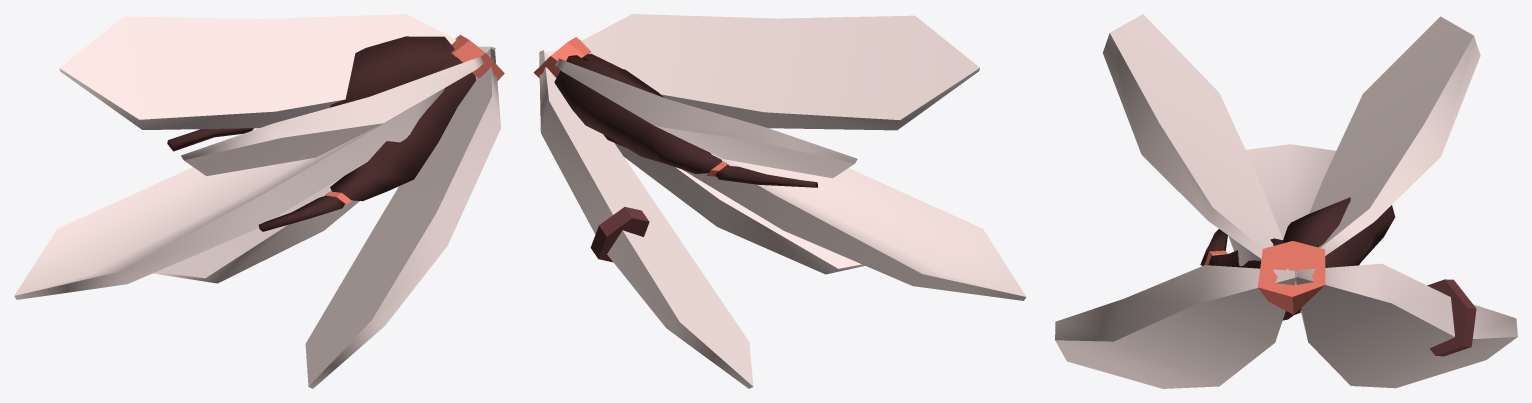
Rendered from QueenPonytailFemale.glb.
3 renders of one model, left to right at view 1: azimuth 30°, elevation 25°; view 2: azimuth 150°, elevation 25°; view 3: azimuth 270°, elevation 25°, orthographic. The views are drawn at different scales.
Parts seen in each view (by area): view 1: QueenSkinPonyTail; view 2: QueenSkinPonyTail; view 3: QueenSkinPonyTail.
Boxes of the visible parts, x1,y1,x2,y2 form: QueenSkinPonyTail: (14, 14, 504, 388); QueenSkinPonyTail: (533, 14, 1026, 388); QueenSkinPonyTail: (1055, 14, 1517, 388).
Bounding box in the file's own units: 0.5759 × 0.2982 × 0.3905.
Materials: 1 (1 with a texture image).
